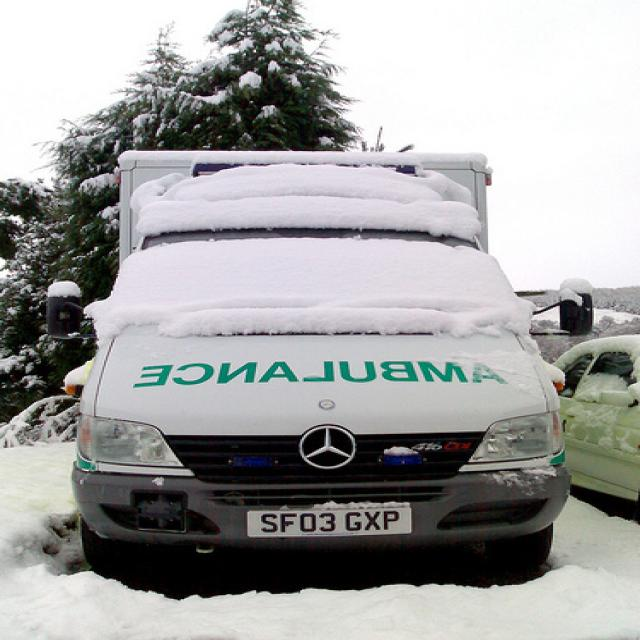emergency-vehicle: (92, 160, 567, 559)
